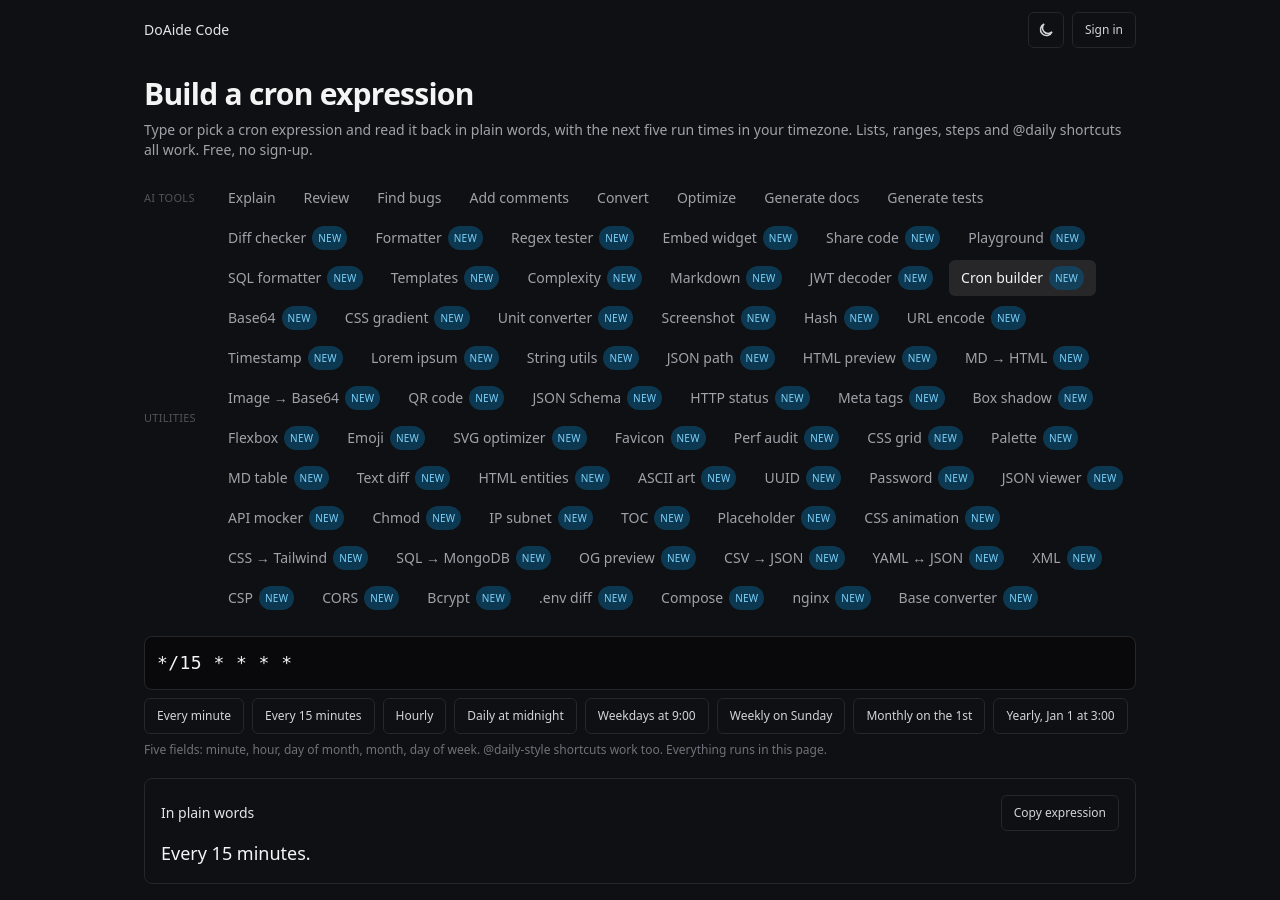
Scenario: CronPage › updates as you type and explains weekday schedules
Type "0 9 * * 1-5" into the field with test id "cron-in" at coordinates (640, 663), box [144,636,1136,690]
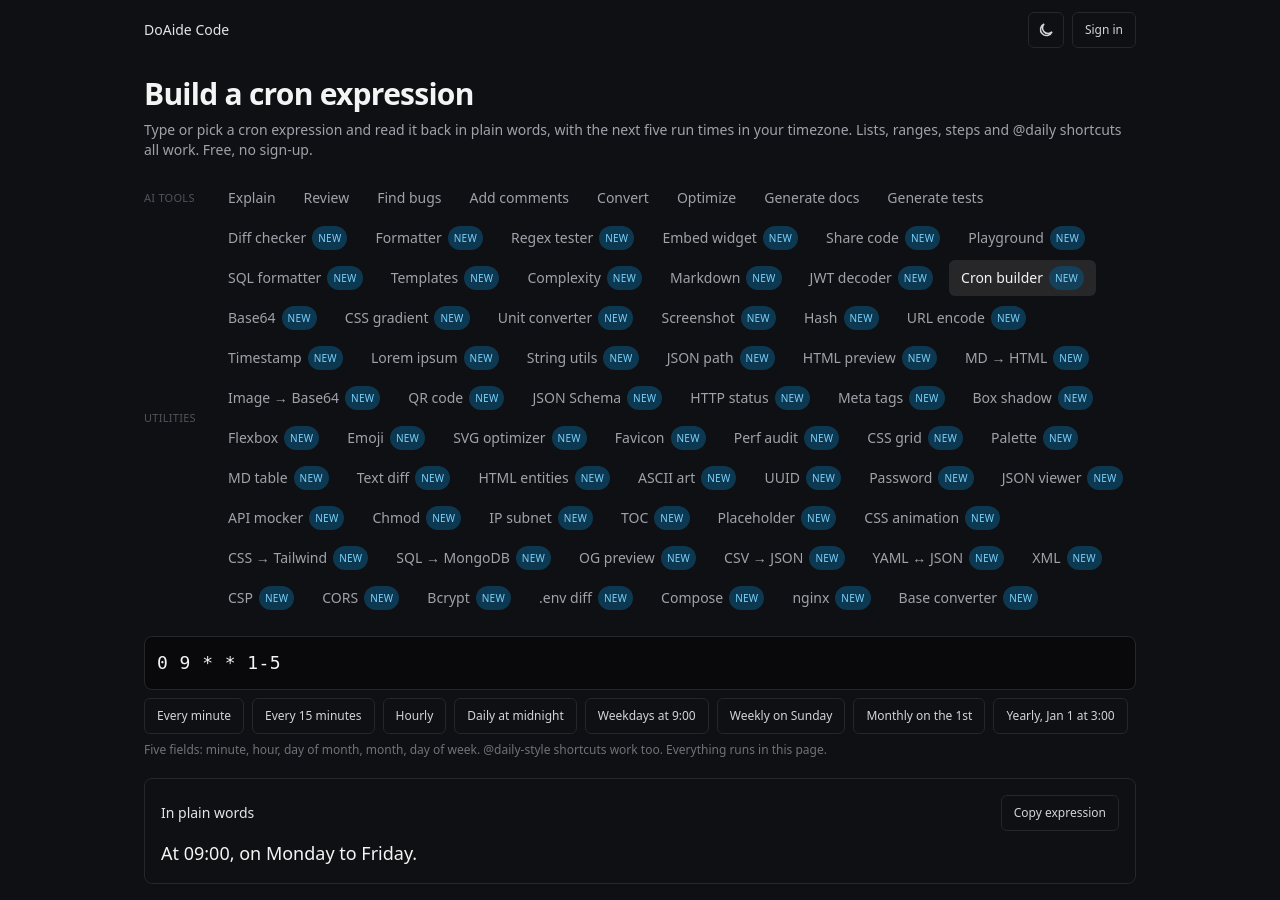
Now the text with test id "cron-description" reads "At 09:00, on Monday to Friday.", box [161,841,417,865]
